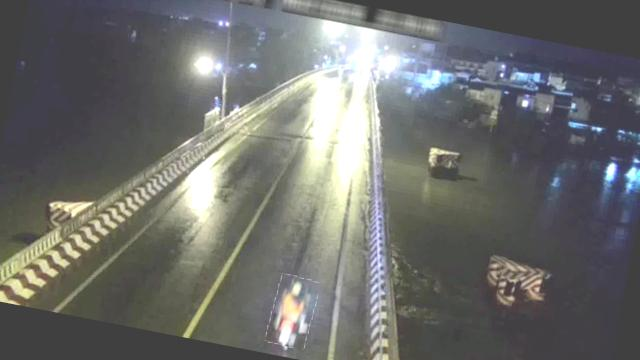Bike: (265, 272, 320, 350)
